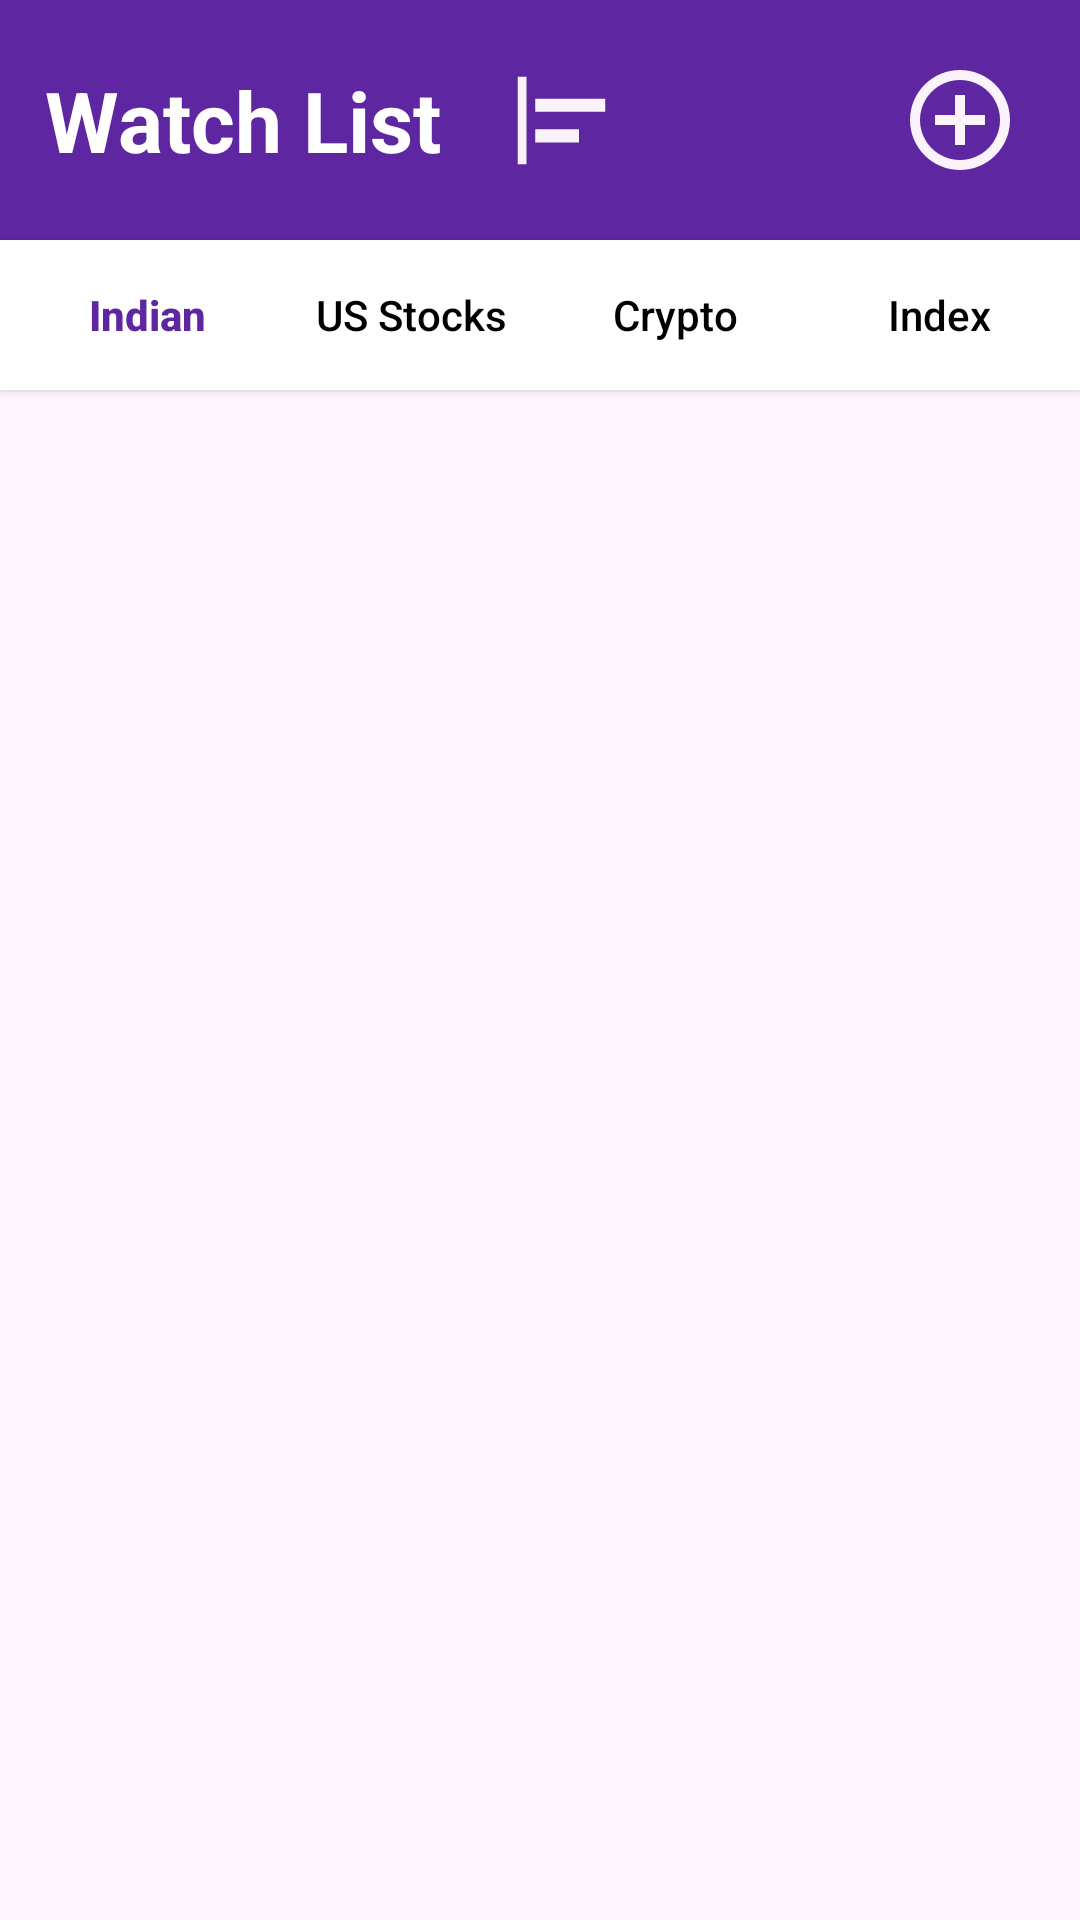

Screen size 1080 x 1920. Icon name, then its box in pixels as BBox(x1, y1, x2, y2):
add: BBox(910, 70, 1010, 170)
